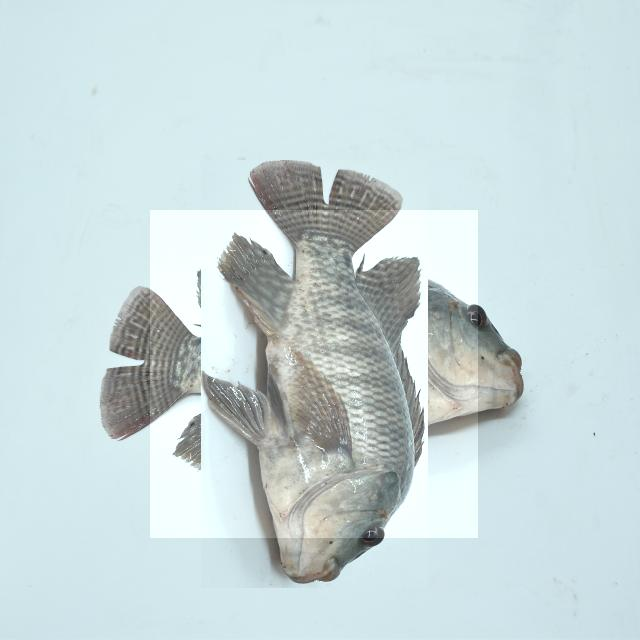Healthy Fish: (150, 210, 478, 538)
